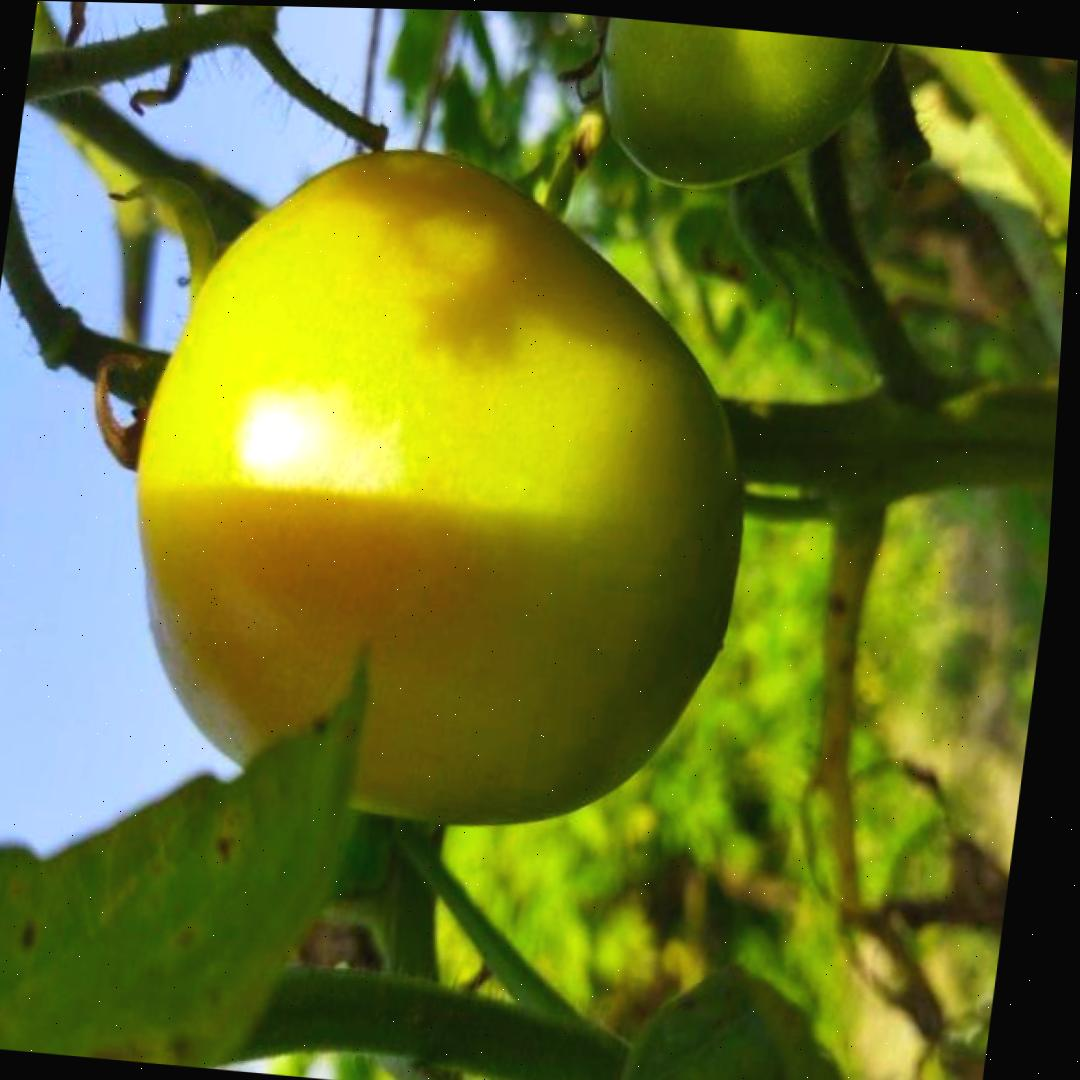setengah_matang: (87, 121, 793, 855)
